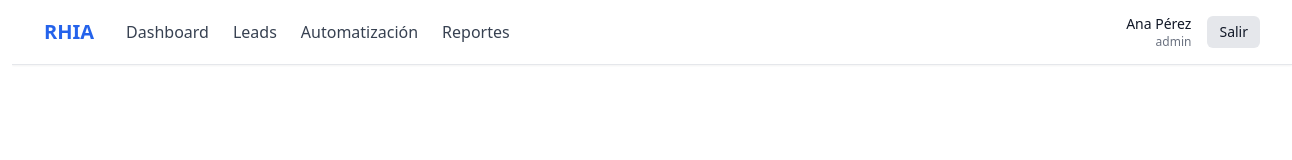
Test case: Navigation Component › logout clears the session and navigates to /login
Click the button "Salir".
click(1234, 32)  # box [1208, 16, 1260, 48]
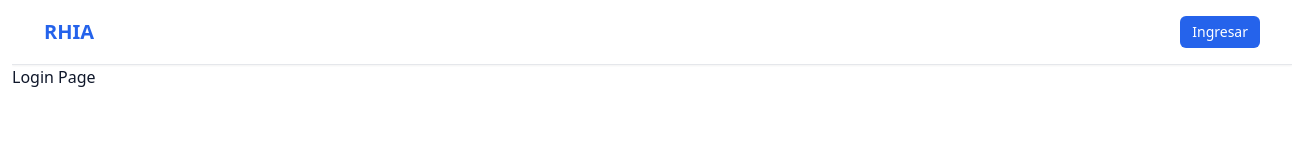
Result: the text "Login Page" is shown at [12, 66, 96, 88]
